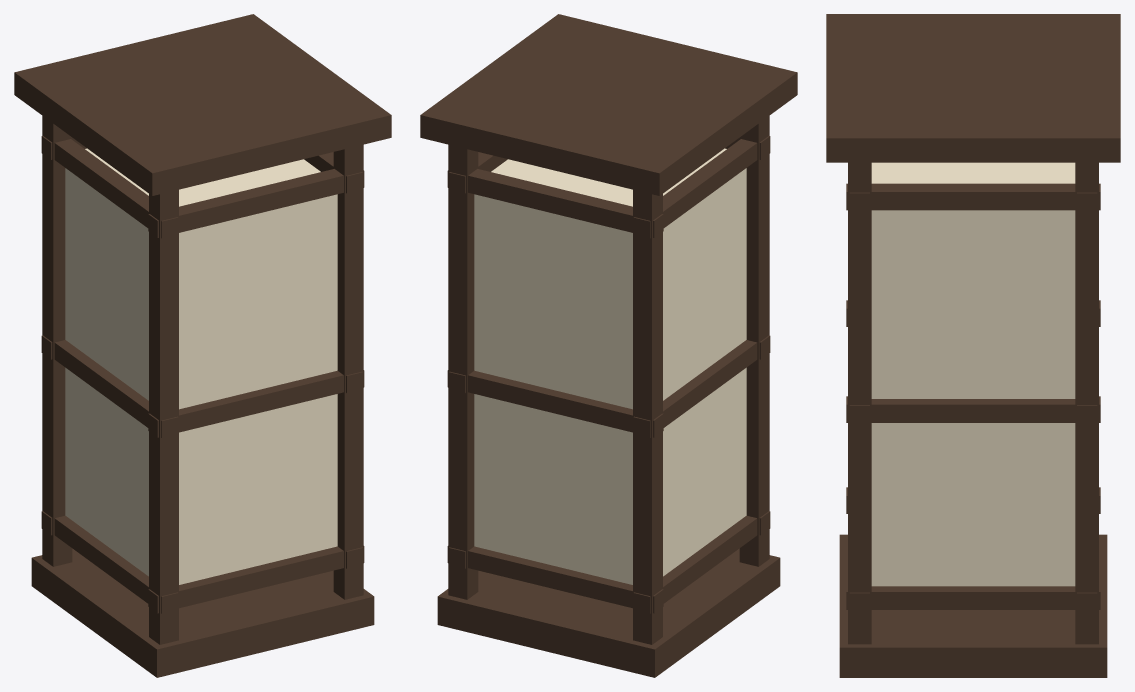
The model's file is andon.glb.
The picture shows the model from 3 angles, left to right: view 1: azimuth 30°, elevation 25°; view 2: azimuth 150°, elevation 25°; view 3: azimuth 270°, elevation 25°; orthographic projection. The views are drawn at different scales.
Visible parts, largest first — view 1: frame, paper; view 2: frame, paper; view 3: frame, paper.
Part boxes in pixels (bbox=[...]): frame: bbox=[14, 14, 391, 677]; paper: bbox=[65, 148, 337, 584]; frame: bbox=[420, 14, 797, 677]; paper: bbox=[474, 148, 746, 584]; frame: bbox=[826, 14, 1120, 677]; paper: bbox=[871, 162, 1075, 586].
Size of the model in its own units: 0.44 by 0.9 by 0.44.
